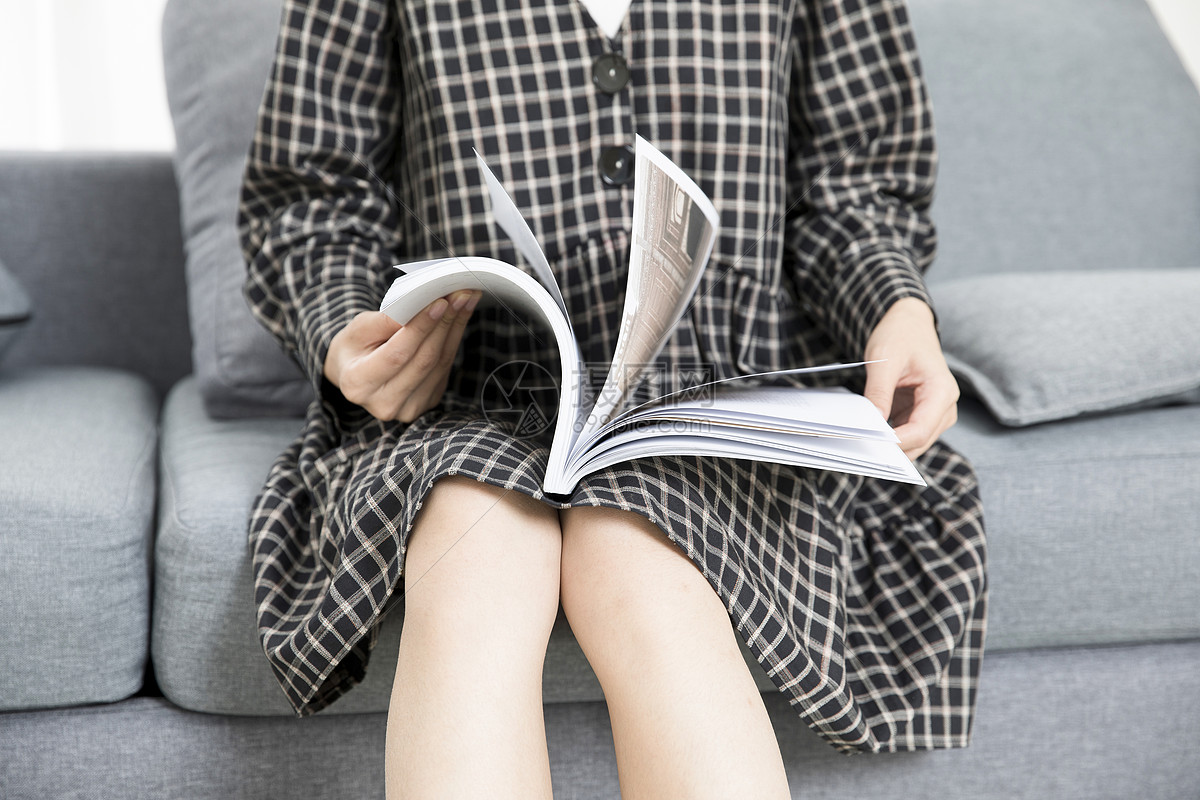book: (322, 108, 960, 538)
